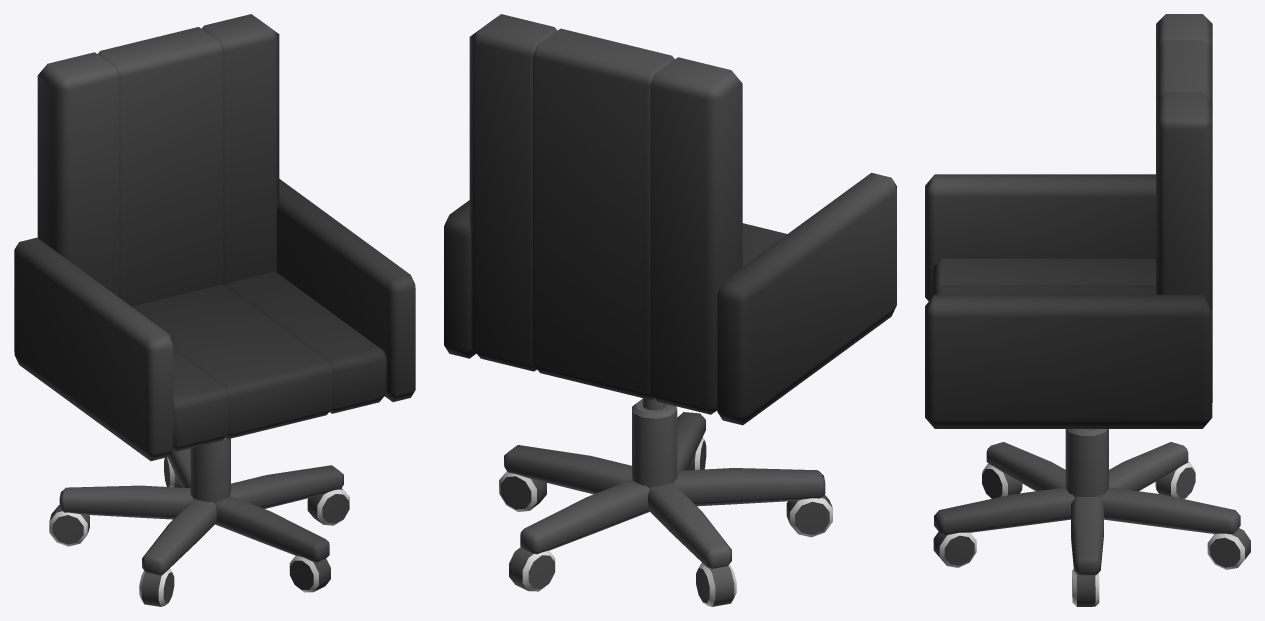
File: Chair_49.glb
3 views of the same model, side by side, from view 1: azimuth 30°, elevation 25°; view 2: azimuth 150°, elevation 25°; view 3: azimuth 270°, elevation 25° (orthographic). The views are drawn at different scales.
Parts seen in each view (by area): view 1: Chair_49, Chair_49 Tire_4, Chair_49 Tire_1, Chair_49 Tire_2, Chair_49 Tire_5; view 2: Chair_49, Chair_49 Tire_3, Chair_49 Tire_5, Chair_49 Tire_4, Chair_49 Tire_2; view 3: Chair_49, Chair_49 Tire_3, Chair_49 Tire_1, Chair_49 Tire_4, Chair_49 Tire_5, Chair_49 Tire_2.
Boxes of the visible parts, <box> form: Chair_49: <box>14,14,415,575</box>; Chair_49 Tire_4: <box>49,505,89,546</box>; Chair_49 Tire_1: <box>289,555,330,592</box>; Chair_49 Tire_2: <box>307,488,349,525</box>; Chair_49 Tire_5: <box>139,568,174,606</box>; Chair_49: <box>444,14,896,568</box>; Chair_49 Tire_3: <box>509,547,555,591</box>; Chair_49 Tire_5: <box>786,494,832,537</box>; Chair_49 Tire_4: <box>696,563,736,606</box>; Chair_49 Tire_2: <box>499,471,546,511</box>; Chair_49: <box>925,14,1240,575</box>; Chair_49 Tire_3: <box>1207,528,1250,569</box>; Chair_49 Tire_1: <box>933,531,976,567</box>; Chair_49 Tire_4: <box>1155,462,1195,498</box>; Chair_49 Tire_5: <box>982,463,1022,498</box>; Chair_49 Tire_2: <box>1072,569,1099,606</box>.
Size of the model in its own units: 0.7652 by 1.26 by 0.7735.
Materials: 1 (1 with a texture image).
